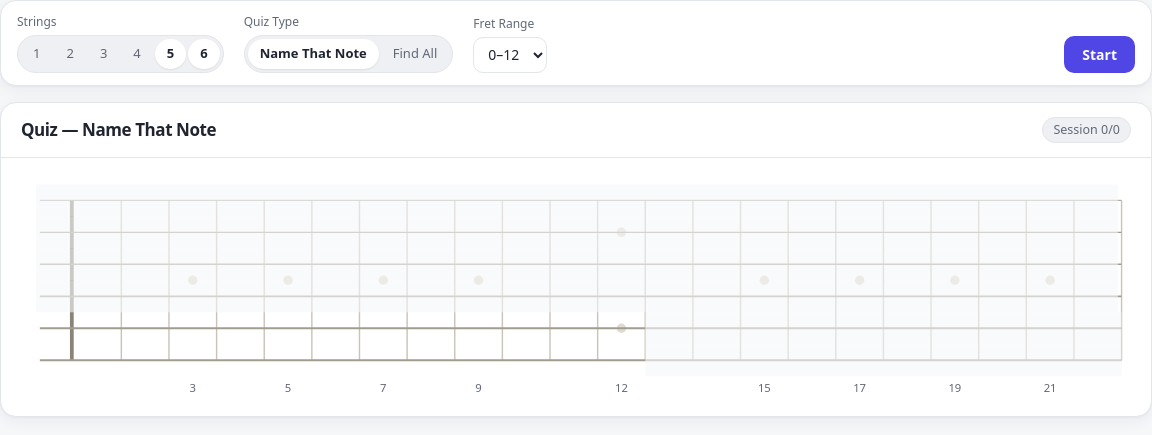
Test: Quiz — 모두 찾기 › shows the target and progress after start
This screenshot has width=1152, height=435.
Click the button "Find All" at (415, 54), box [381, 39, 449, 68]
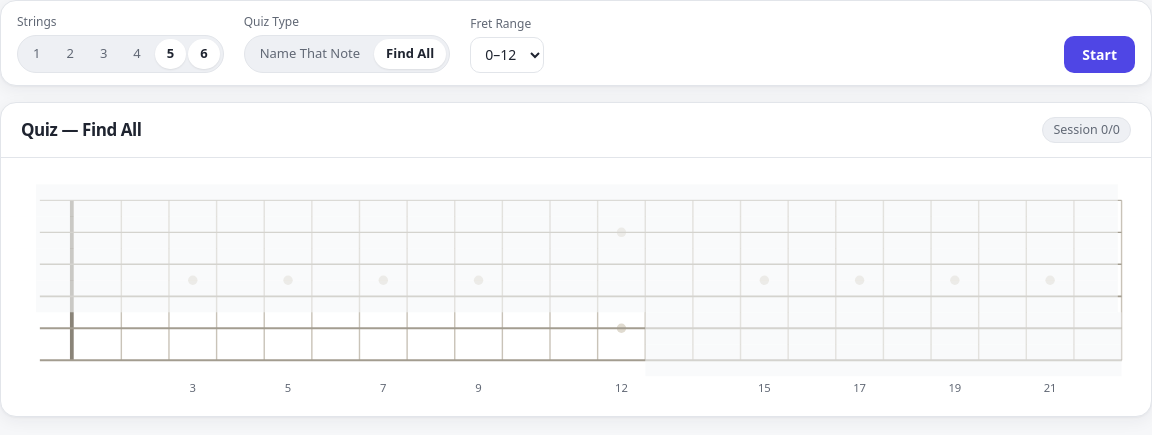
Click the button "Start" at (1100, 54), box [1064, 36, 1135, 72]
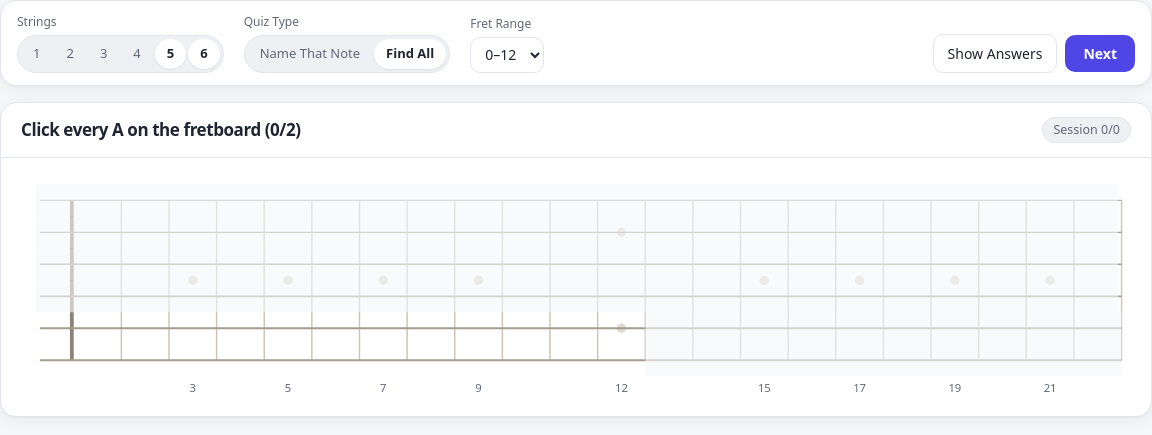
Result: the heading "Click every A on the fretboard (0/2)" is shown at [21, 117, 301, 143]
